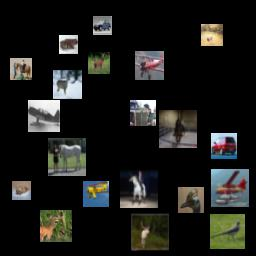airplane: (211, 169, 249, 207), (28, 100, 60, 132), (135, 51, 164, 80), (83, 181, 109, 207)
automobile: (211, 133, 237, 159), (93, 16, 112, 35)
bird: (210, 214, 245, 249), (178, 187, 204, 213)
deer: (131, 213, 169, 251), (40, 210, 72, 242), (53, 70, 82, 99), (88, 52, 110, 74), (201, 24, 223, 46)
dog: (12, 181, 31, 200)
frog: (59, 35, 78, 54)
truck: (130, 100, 156, 126)
